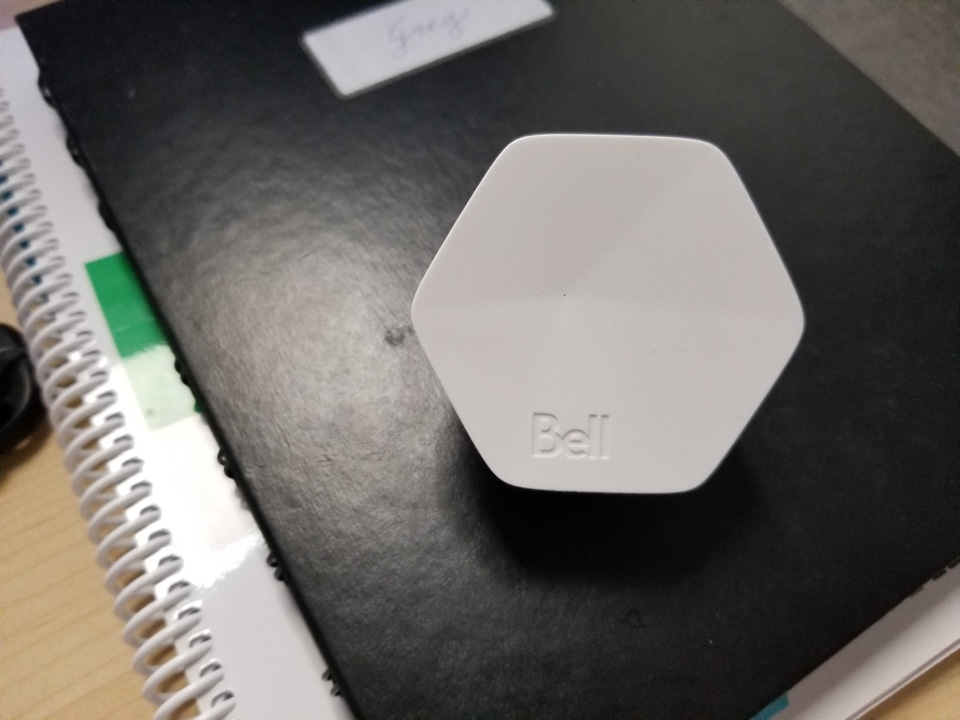pod: (406, 129, 811, 498)
